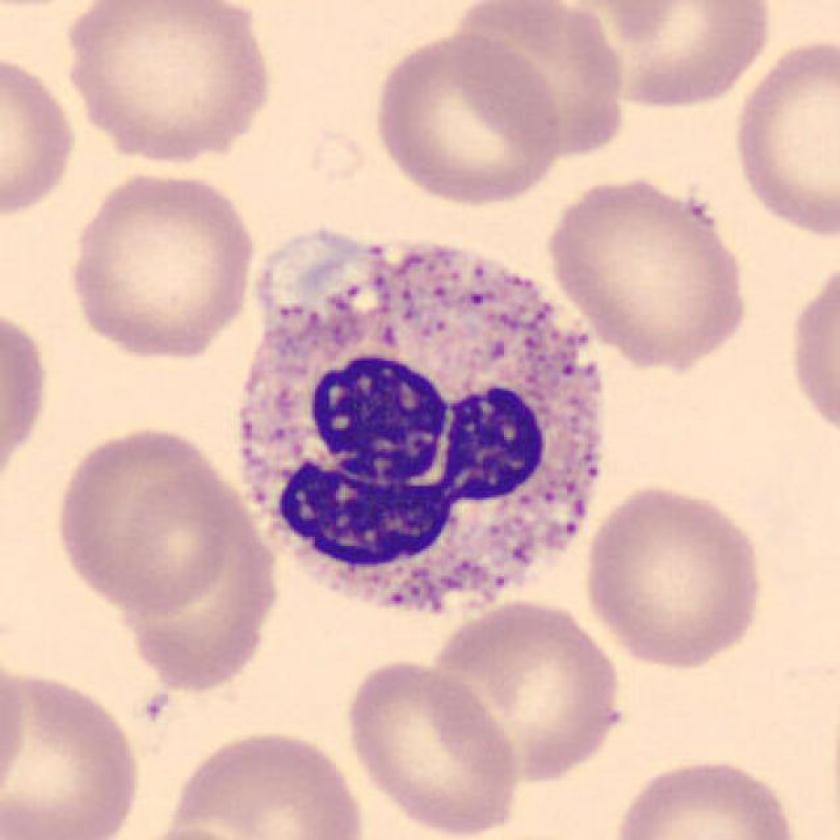neutrophil: (240, 247, 601, 612)
